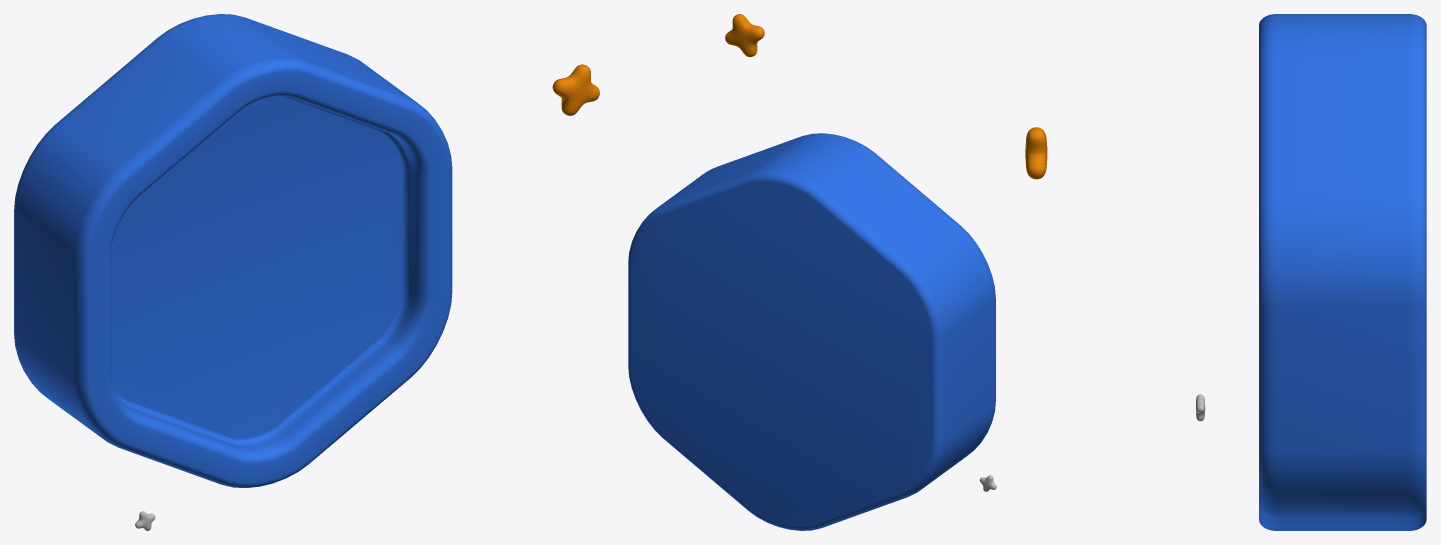
Rendered from diamond-medal-animated-3d-icon-1491723496269.glb.
3 renders of one model, left to right at view 1: azimuth 30°, elevation 25°; view 2: azimuth 150°, elevation 25°; view 3: azimuth 270°, elevation 25°, orthographic. The views are drawn at different scales.
Visible parts, largest first — view 1: Circle.003, Cube.002; view 2: Circle.003, Cube.002; view 3: Circle.003, Cube.002.
Boxes of the visible parts, x1=… form: Circle.003: x1=14, y1=14, x2=452, y2=487; Cube.002: x1=552, y1=64, x2=599, y2=115; Circle.003: x1=628, y1=133, x2=995, y2=530; Cube.002: x1=725, y1=14, x2=764, y2=57; Circle.003: x1=1259, y1=14, x2=1426, y2=530; Cube.002: x1=1025, y1=127, x2=1047, y2=179.
Size of what is drawn, in the model's own units: 1.94 by 1.94 by 1.38.
